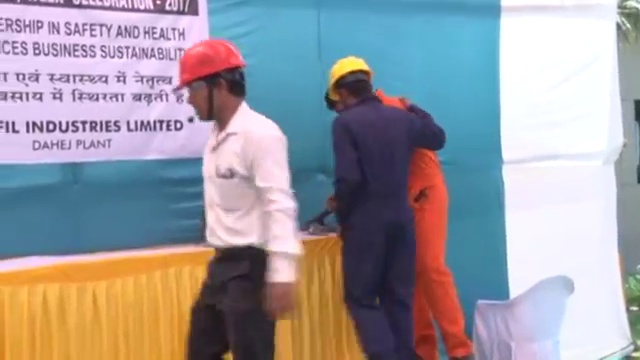helmet: (171, 39, 247, 94), (326, 54, 374, 101)
helmet_on: (170, 38, 249, 126), (325, 54, 376, 111)
person: (167, 34, 302, 358), (322, 52, 441, 360), (375, 86, 475, 360)
